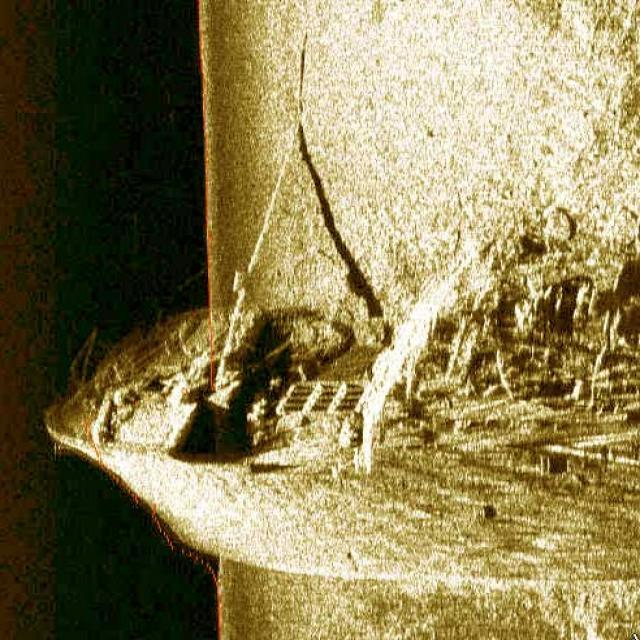shipwreck: (48, 230, 640, 520)
